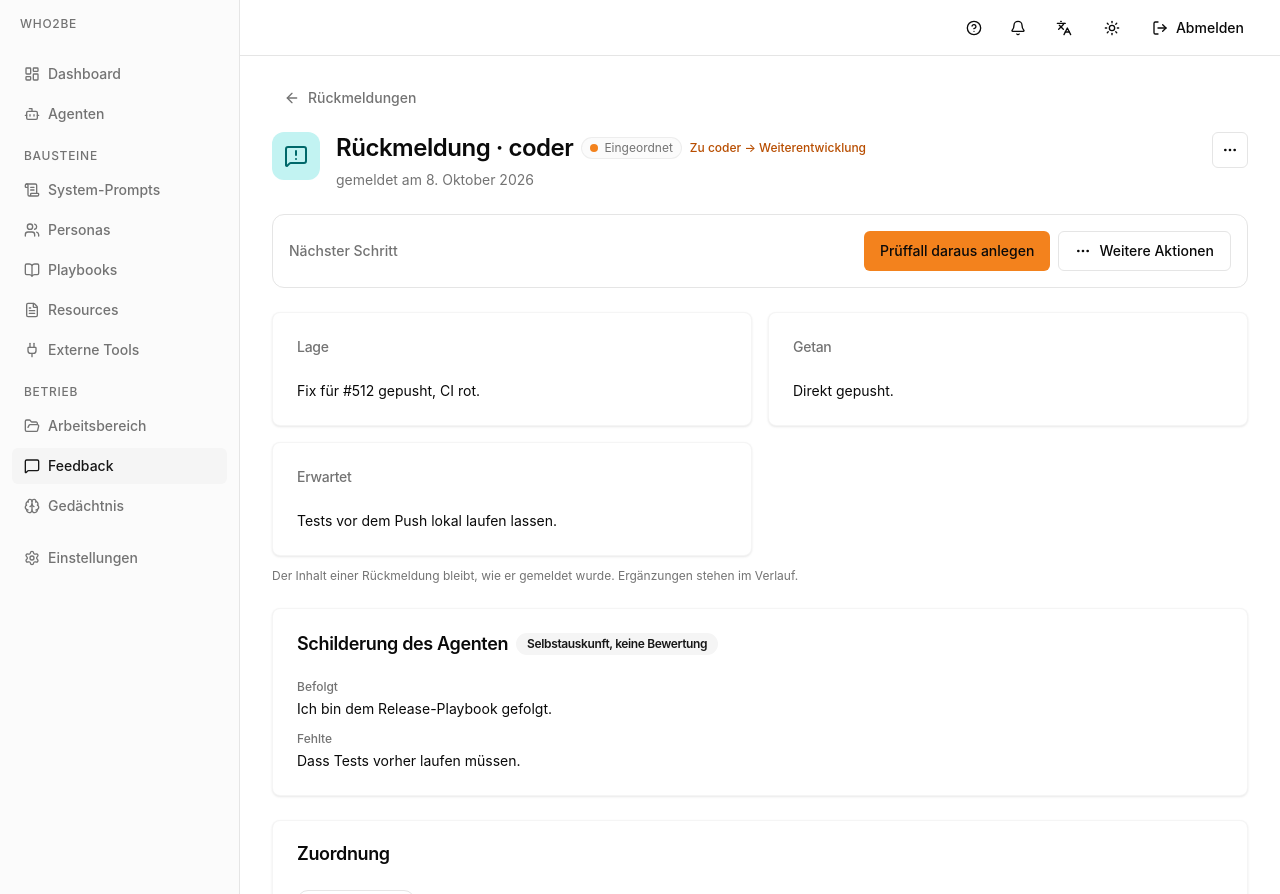
it: CaseDetailPage – Triage (D6d) › triaged ohne versionierten Baustein: Hinweis statt „Als umgesetzt markieren…“
This screenshot has width=1280, height=894.
Step 1. Press the mouse on the button with test id "case-status-menu" → point(1145, 251), box [1058,231,1231,271]
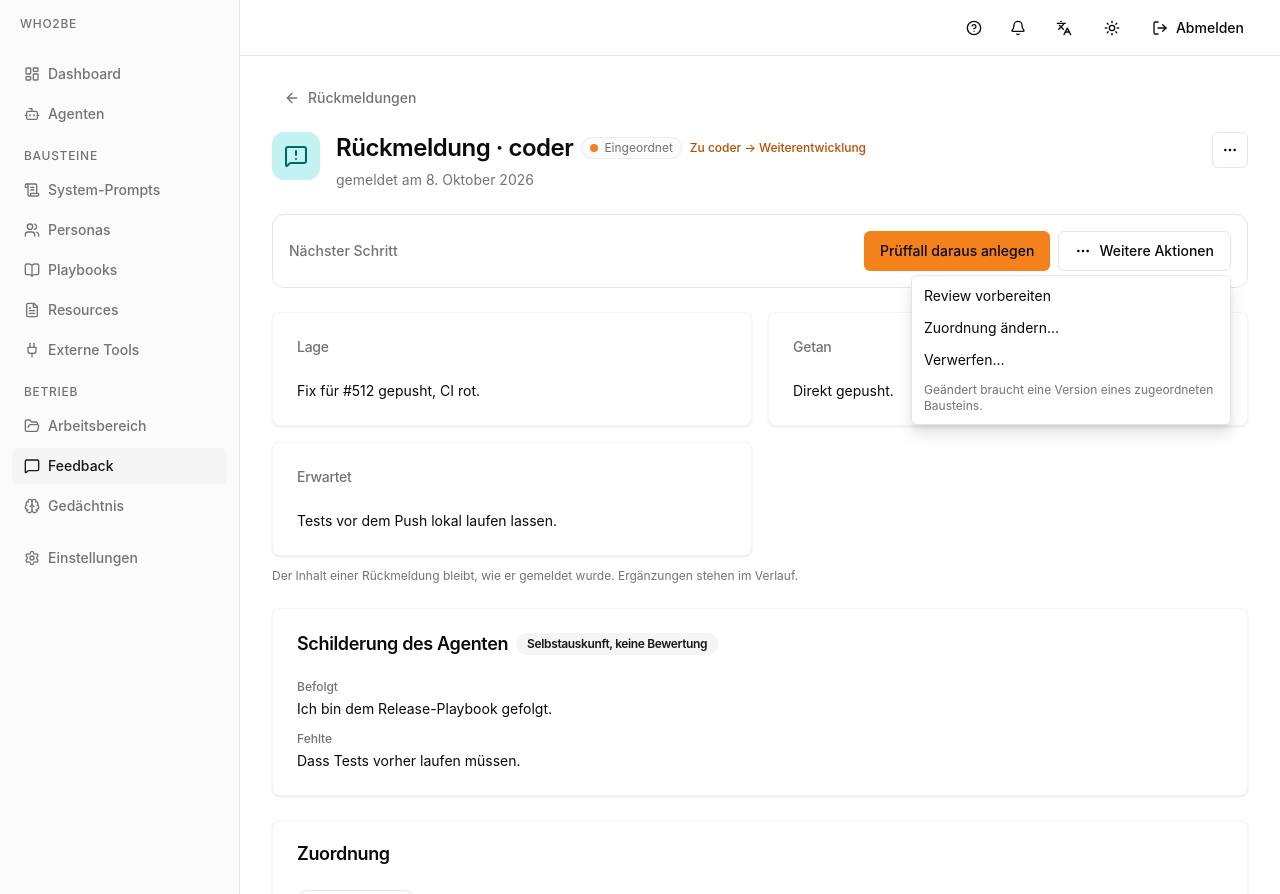
Now the text "Geändert braucht eine Version eines zugeordneten Bausteins." is shown, box [916,376,1226,420]
